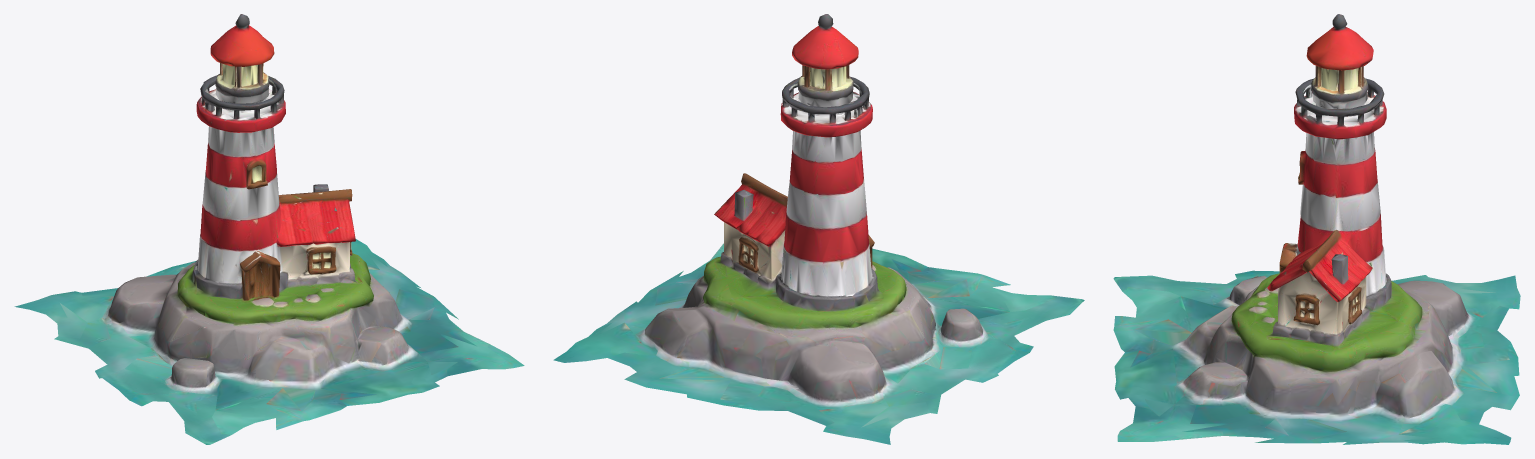
Rendered from m_lighthouse_animated.glb.
3 renders of one model, left to right at view 1: azimuth 30°, elevation 25°; view 2: azimuth 150°, elevation 25°; view 3: azimuth 270°, elevation 25°, orthographic. The views are drawn at different scales.
Visible parts, largest first — view 1: m_lighthouse_Living_Scenery; view 2: m_lighthouse_Living_Scenery; view 3: m_lighthouse_Living_Scenery.
Part boxes in pixels (x1,y1,x2,y2): m_lighthouse_Living_Scenery: (14,14,524,444); m_lighthouse_Living_Scenery: (553,14,1084,444); m_lighthouse_Living_Scenery: (1113,14,1520,444).
Size of the model in its own units: 0.9478 by 0.8612 by 0.9377.
1 material, 1 textured.
